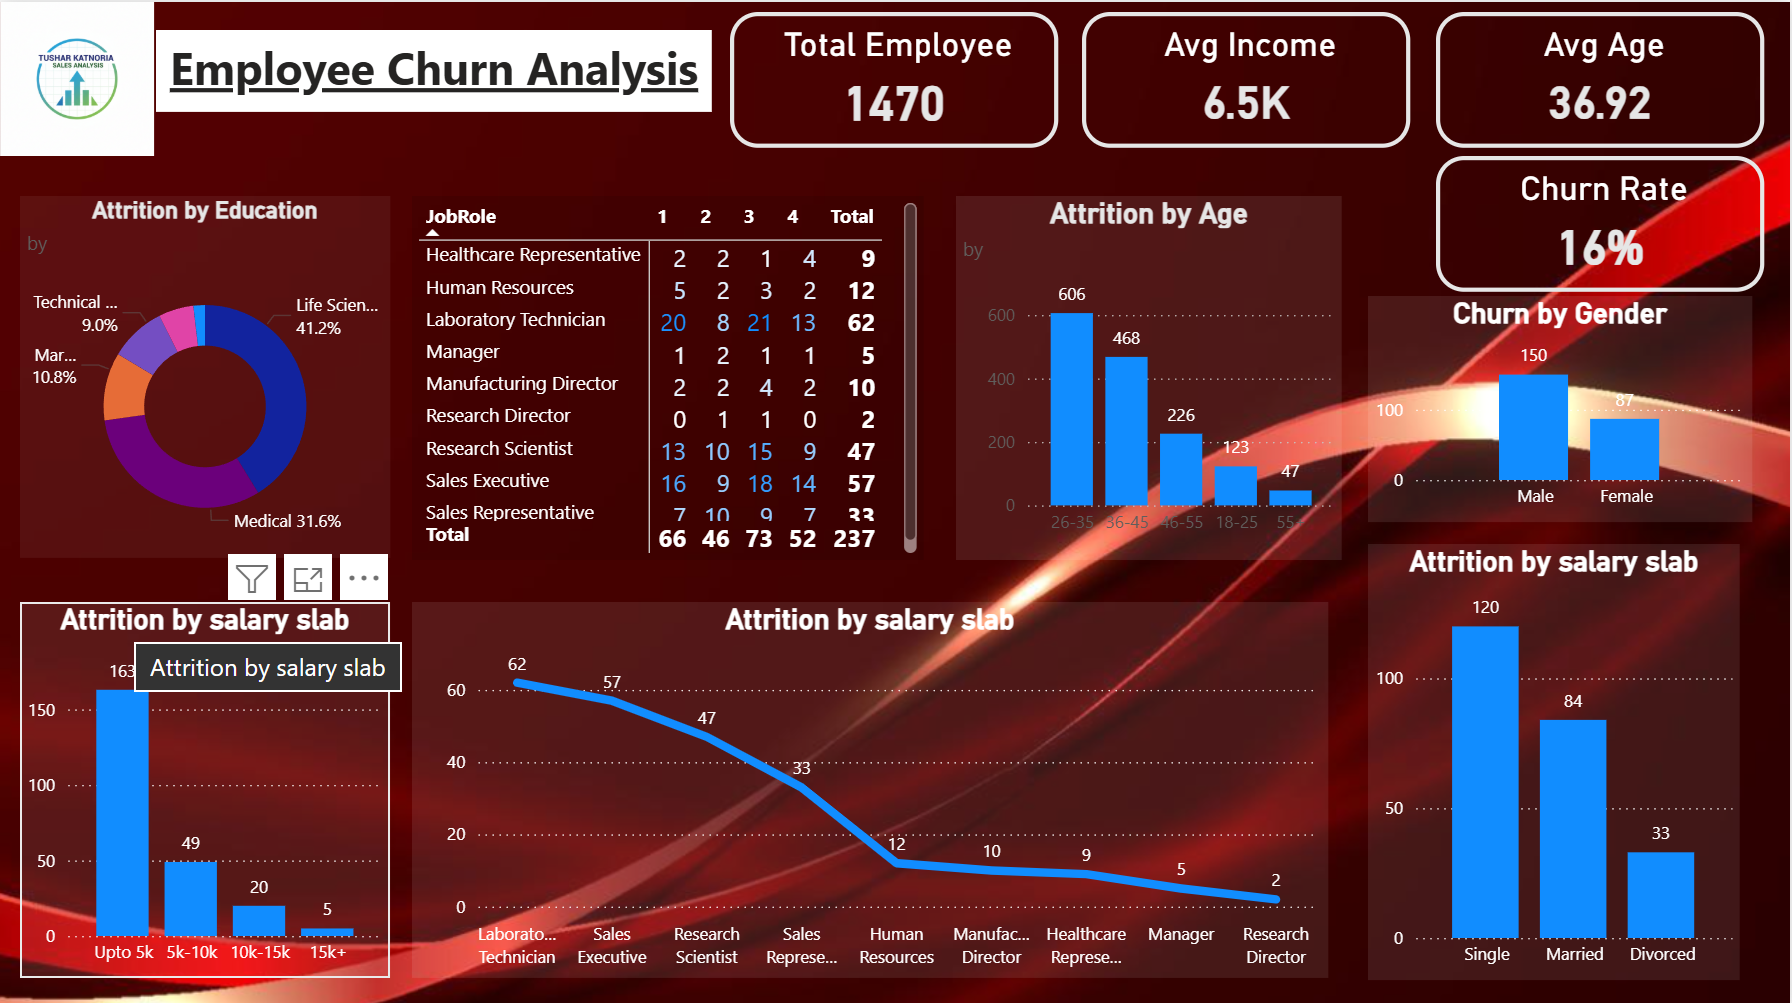

The dashboard page shown, as its layout file describes it:
{"tool":"powerbi","page":{"name":"Page 1","canvas":[1280,720],"ordinal":0},"visuals":[{"type":"actionButton","box":[0,0,100,40],"z":0},{"type":"card","title":"Total Employee","fields":{"Values":["HR_Analytics.Measure"]},"box":[522.9,7.1,234.3,97.1],"z":1000},{"type":"card","title":"Avg Age","fields":{"Values":["HR_Analytics.Age"]},"box":[1027.1,7.1,234.3,97.1],"z":2000},{"type":"card","title":"Avg Income","fields":{"Values":["HR_Analytics.MonthlyIncome"]},"box":[774.3,7.1,234.3,97.1],"z":3000},{"type":"card","title":"Churn Rate","fields":{"Values":["HR_Analytics.rate"]},"box":[1027.1,110,234.3,97.1],"z":4000},{"type":"donutChart","title":"Attrition by Education","fields":{"Category":["HR_Analytics.EducationField"],"Y":["HR_Analytics.Attrition"]},"box":[15.7,138.6,264.3,258.6],"z":5000},{"type":"columnChart","title":"Attrition by Age","fields":{"Category":["HR_Analytics.AgeGroup"],"Y":["HR_Analytics.Attrition"]},"box":[684.3,138.6,275.7,260],"z":6000},{"type":"pivotTable","title":"Attrition by Age","fields":{"Rows":["HR_Analytics.JobRole"],"Values":["HR_Analytics.attrition numeric"],"Columns":["HR_Analytics.JobSatisfaction"]},"box":[295.7,138.6,365.7,260],"z":7000},{"type":"lineChart","title":"Attrition by salary slab","fields":{"Category":["HR_Analytics.JobRole"],"Y":["HR_Analytics.attrition numeric"]},"box":[295.7,428.6,654.3,268.6],"z":8000},{"type":"columnChart","title":"Attrition by salary slab","fields":{"Category":["HR_Analytics.SalarySlab"],"Y":["HR_Analytics.attrition numeric"]},"box":[15.7,428.6,264.3,268.6],"z":8001},{"type":"columnChart","title":"Churn by Gender","fields":{"Y":["HR_Analytics.attrition numeric"],"Category":["HR_Analytics.Gender"]},"box":[978.6,210,274.3,161.4],"z":8002},{"type":"columnChart","title":"Attrition by salary slab","fields":{"Category":["HR_Analytics.MaritalStatus"],"Y":["HR_Analytics.attrition numeric"]},"box":[978.6,387.1,265.7,311.4],"z":8003},{"type":"image","box":[0,0,112.9,110],"z":8004},{"type":"textbox","box":[112.9,20,397.1,58.6],"z":8005}]}

Visuals, with their boxes in screenshot pixels (x1, y1, x2, y2), scaled from the page's 1280x720 canvas onto the 1792x1003 screenshot:
actionButton: x1=0 y1=0 x2=140 y2=56
"Total Employee" card: x1=732 y1=10 x2=1060 y2=145
"Avg Age" card: x1=1438 y1=10 x2=1766 y2=145
"Avg Income" card: x1=1084 y1=10 x2=1412 y2=145
"Churn Rate" card: x1=1438 y1=153 x2=1766 y2=289
"Attrition by Education" donutChart: x1=22 y1=193 x2=392 y2=553
"Attrition by Age" columnChart: x1=958 y1=193 x2=1344 y2=555
"Attrition by Age" pivotTable: x1=414 y1=193 x2=926 y2=555
"Attrition by salary slab" lineChart: x1=414 y1=597 x2=1330 y2=971
"Attrition by salary slab" columnChart: x1=22 y1=597 x2=392 y2=971
"Churn by Gender" columnChart: x1=1370 y1=293 x2=1754 y2=517
"Attrition by salary slab" columnChart: x1=1370 y1=539 x2=1742 y2=973
image: x1=0 y1=0 x2=158 y2=153
textbox: x1=158 y1=28 x2=714 y2=109
